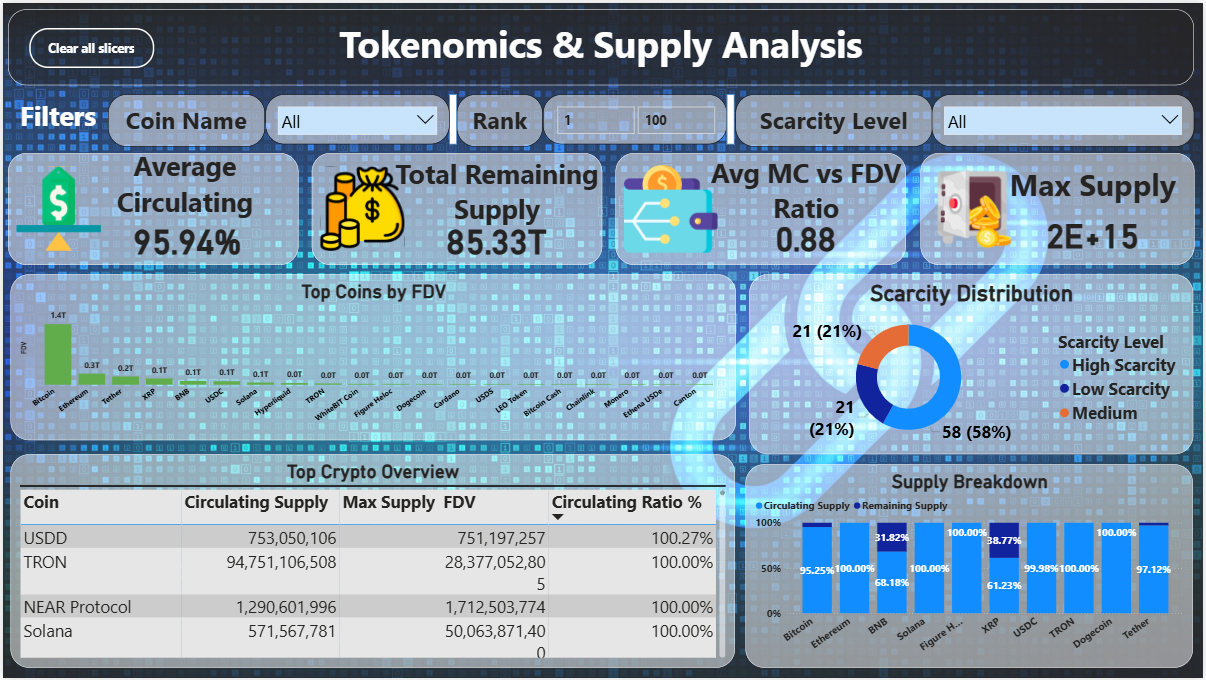

The dashboard page shown, as its layout file describes it:
{"tool":"powerbi","page":{"name":"Tokenomics & Supply Analysis","canvas":[1920,1080],"ordinal":3},"visuals":[{"type":"textbox","box":[8.2,10.3,1897.8,121.4],"z":0},{"type":"clusteredColumnChart","title":"Top Coins by FDV","fields":{"Category":["CryptoData.name"],"Y":["Sum(CryptoData.fully_diluted_valuation)"]},"box":[12.3,434.3,1160.9,265.5],"z":1000},{"type":"textbox","box":[168.8,146.1,251.1,84.4],"z":2000},{"type":"textbox","box":[22.6,146.1,170.8,80.3],"z":3000},{"type":"textbox","box":[1171.2,146.1,314.9,84.4],"z":4000},{"type":"textbox","box":[726.6,146.1,137.9,84.4],"z":5000},{"type":"slicer","title":"Price Distribution","fields":{"Values":["CryptoData.market_cap_rank"]},"box":[864.5,146.1,294.3,80.3],"z":6000},{"type":"shape","box":[714.2,146.1,12.3,80.3],"z":7000},{"type":"shape","box":[1158.8,146.1,12.3,80.3],"z":8000},{"type":"slicer","title":"Price Distribution","fields":{"Values":["CryptoData.Scarcity Level"]},"box":[1486.1,146.1,419.9,84.4],"z":9000},{"type":"actionButton","box":[8.2,240.8,465.2,179.1],"z":10000},{"type":"actionButton","box":[494,240.8,465.2,179.1],"z":11000},{"type":"actionButton","box":[979.8,240.8,465.2,179.1],"z":12000},{"type":"actionButton","box":[1467.6,240.8,438.4,179.1],"z":13000},{"type":"card","fields":{"Values":["Sum(CryptoData.max_supply)"]},"box":[1611.7,325.2,263.5,80.3],"z":14000},{"type":"card","fields":{"Values":["All Measures.MC vs FDV Ratio"]},"box":[1132.1,321.1,304.6,98.8],"z":15000},{"type":"card","fields":{"Values":["All Measures.Remaining Supply"]},"box":[650.4,335.5,279.9,78.2],"z":16000},{"type":"textbox","box":[109.1,226.4,362.3,123.5],"z":17000},{"type":"textbox","box":[603.1,238.8,372.6,123.5],"z":18000},{"type":"textbox","box":[1581.2,251.1,323.2,119.4],"z":19000},{"type":"textbox","box":[1109.4,236.7,349.9,137.9],"z":20000},{"type":"donutChart","title":"Scarcity Distribution","fields":{"Category":["CryptoData.Scarcity Level"],"Y":["CountNonNull(CryptoData.name)"]},"box":[1193.8,434.3,710.1,288.2],"z":22000},{"type":"slicer","title":"Price Distribution","fields":{"Values":["CryptoData.name"]},"box":[419.9,146.1,294.3,80.3],"z":23000},{"type":"card","fields":{"Values":["All Measures.Circulating Ratio %"]},"box":[129.7,331.4,329.3,86.4],"z":24000},{"type":"hundredPercentStackedColumnChart","title":"Supply Breakdown","fields":{"Category":["CryptoData.name"],"Y":["Sum(CryptoData.circulating_supply)","All Measures.Remaining Supply"]},"box":[1187.7,738.9,716.3,325.2],"z":25000},{"type":"tableEx","title":"Top Crypto Overview","fields":{"Values":["CryptoData.name","Sum(CryptoData.circulating_supply)","Sum(CryptoData.max_supply)","Sum(CryptoData.fully_diluted_valuation)","All Measures.Circulating Ratio %"]},"box":[12.3,722.5,1158.8,341.7],"z":26000},{"type":"actionButton","box":[41.2,39.1,199.7,63.8],"z":27000}]}

Visuals, with their boxes in screenshot pixels (x1, y1, x2, y2), scaled from the page's 1920x1080 canvas onto the 1206x680 screenshot:
textbox: bbox=[5, 6, 1197, 83]
"Top Coins by FDV" clusteredColumnChart: bbox=[8, 273, 737, 441]
textbox: bbox=[106, 92, 264, 145]
textbox: bbox=[14, 92, 121, 143]
textbox: bbox=[736, 92, 933, 145]
textbox: bbox=[456, 92, 543, 145]
"Price Distribution" slicer: bbox=[543, 92, 728, 143]
shape: bbox=[449, 92, 456, 143]
shape: bbox=[728, 92, 736, 143]
"Price Distribution" slicer: bbox=[933, 92, 1197, 145]
actionButton: bbox=[5, 152, 297, 264]
actionButton: bbox=[310, 152, 602, 264]
actionButton: bbox=[615, 152, 908, 264]
actionButton: bbox=[922, 152, 1197, 264]
card - Sum(CryptoData.max_supply): bbox=[1012, 205, 1178, 255]
card - All Measures.MC vs FDV Ratio: bbox=[711, 202, 902, 264]
card - All Measures.Remaining Supply: bbox=[409, 211, 584, 260]
textbox: bbox=[69, 143, 296, 220]
textbox: bbox=[379, 150, 613, 228]
textbox: bbox=[993, 158, 1196, 233]
textbox: bbox=[697, 149, 917, 236]
"Scarcity Distribution" donutChart: bbox=[750, 273, 1196, 455]
"Price Distribution" slicer: bbox=[264, 92, 449, 143]
card - All Measures.Circulating Ratio %: bbox=[81, 209, 288, 263]
"Supply Breakdown" hundredPercentStackedColumnChart: bbox=[746, 465, 1196, 670]
"Top Crypto Overview" tableEx: bbox=[8, 455, 736, 670]
actionButton: bbox=[26, 25, 151, 65]
